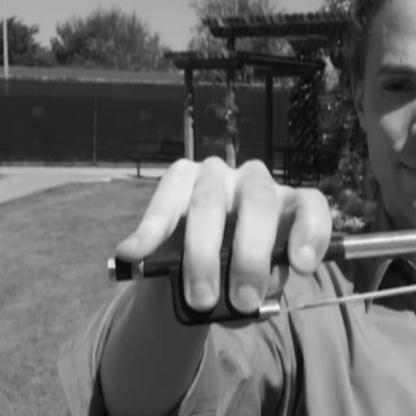bad: (108, 118, 344, 324)
